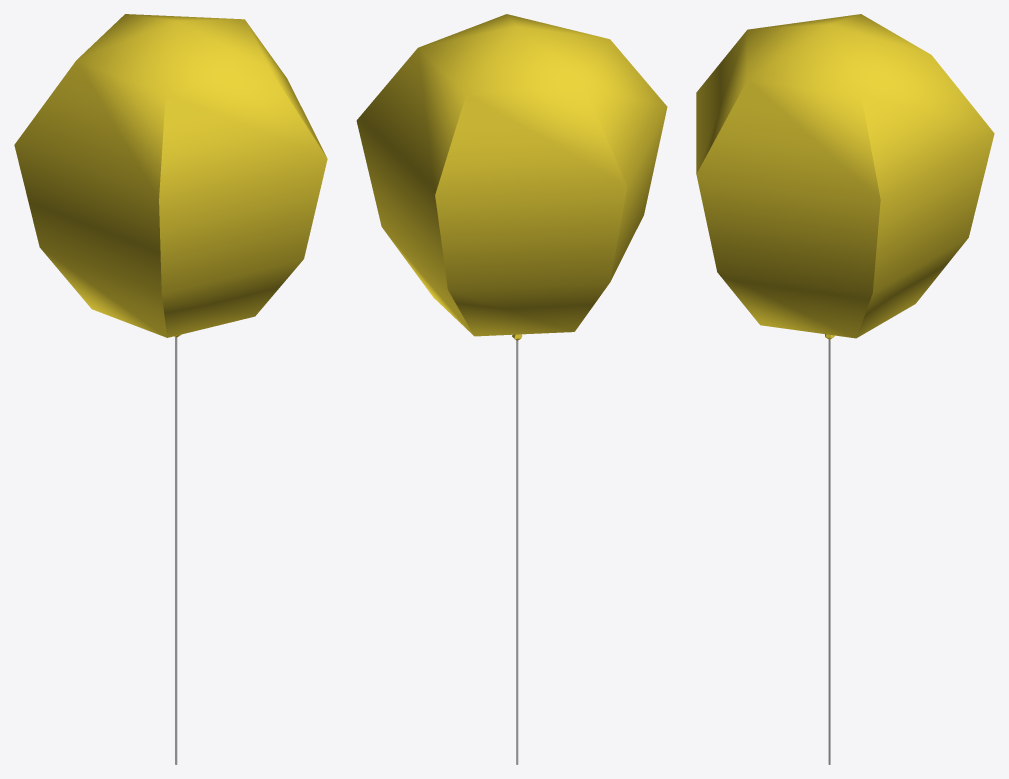
File: BallonJaune.fbx
3 views of the same model, side by side, from view 1: azimuth 30°, elevation 25°; view 2: azimuth 150°, elevation 25°; view 3: azimuth 270°, elevation 25° (orthographic).
Visible parts, largest first — view 1: Ballon3; view 2: Ballon3; view 3: Ballon3.
Part boxes in pixels (box(x1,y1,x2,y2)): Ballon3: box(14, 14, 327, 764); Ballon3: box(356, 14, 667, 764); Ballon3: box(696, 14, 994, 764).
Bounding box in the file's own units: 0.8341 × 2.17 × 0.7932.
